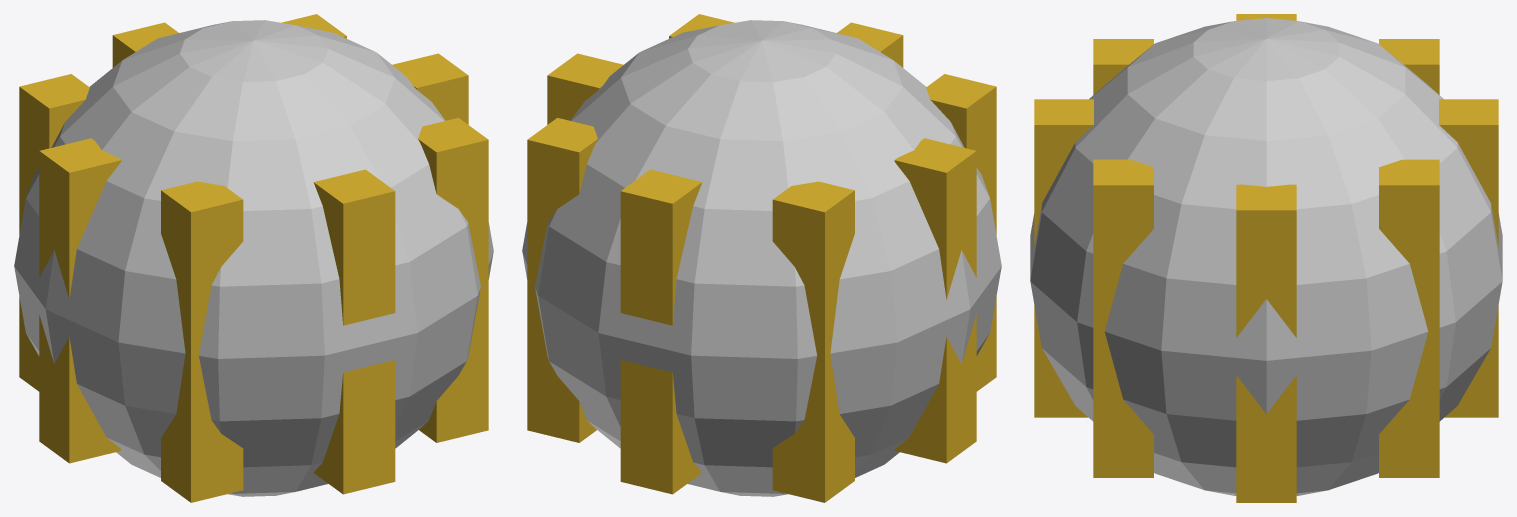
The model's file is fragmentation_payload.obj.
3 views of the same model, side by side, from view 1: azimuth 30°, elevation 25°; view 2: azimuth 150°, elevation 25°; view 3: azimuth 270°, elevation 25° (orthographic).
Visible parts, largest first — view 1: fragmentation_payload; view 2: fragmentation_payload; view 3: fragmentation_payload.
Boxes of the visible parts, left/top/right/bottom form: fragmentation_payload: left=14, top=14, right=493, bottom=502; fragmentation_payload: left=522, top=14, right=1001, bottom=502; fragmentation_payload: left=1030, top=14, right=1502, bottom=502.
Size of the model in its own units: 0.24 by 0.24 by 0.234.
